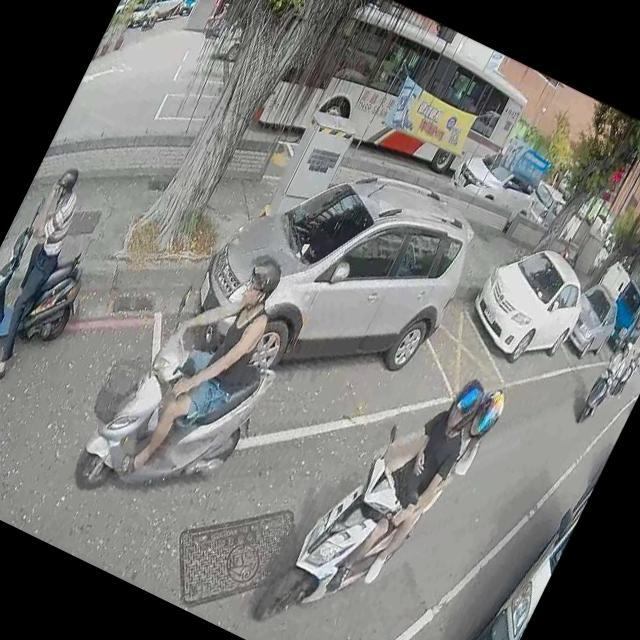person: (104, 227, 300, 505), (308, 345, 497, 619), (342, 360, 512, 592), (0, 160, 103, 390), (584, 334, 636, 416), (0, 454, 14, 516), (206, 0, 232, 31), (143, 0, 160, 23), (627, 342, 640, 367)
